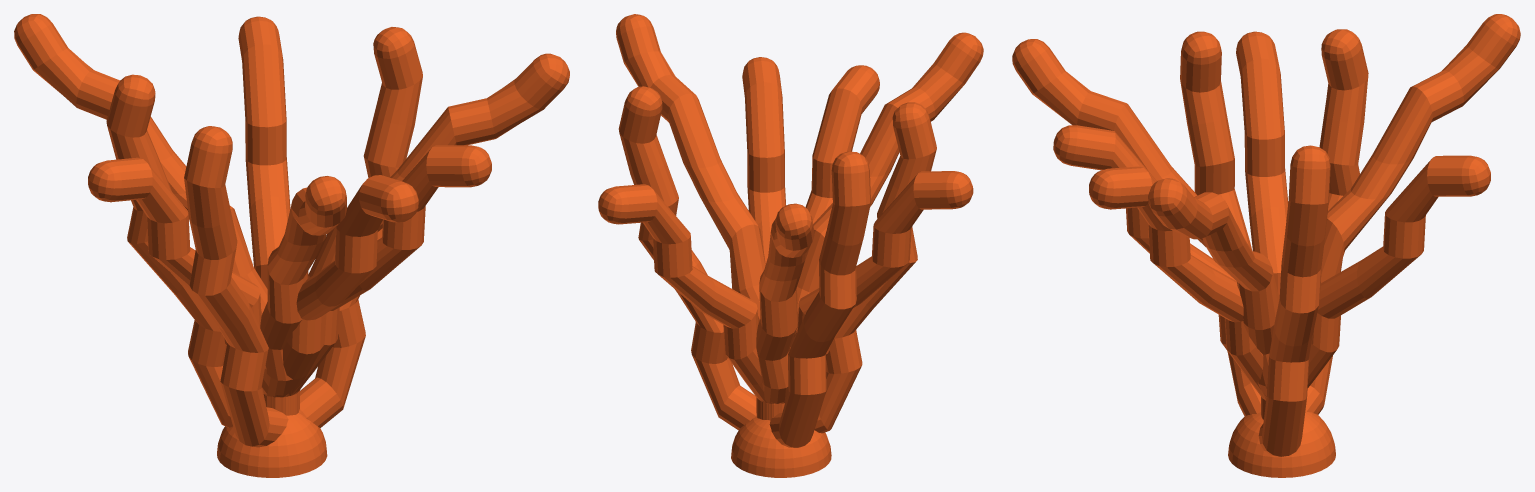
3 views of the same model, side by side, from view 1: azimuth 30°, elevation 25°; view 2: azimuth 150°, elevation 25°; view 3: azimuth 270°, elevation 25° (orthographic). The views are drawn at different scales.
Parts seen in each view (by area): view 1: Cube.003; view 2: Cube.003; view 3: Cube.003.
Boxes of the visible parts, left/top/right/bottom form: Cube.003: left=14, top=14, right=569, bottom=477; Cube.003: left=598, top=14, right=983, bottom=477; Cube.003: left=1012, top=14, right=1520, bottom=477.
Bounding box in the file's own units: 1.07 × 0.9181 × 1.12.
